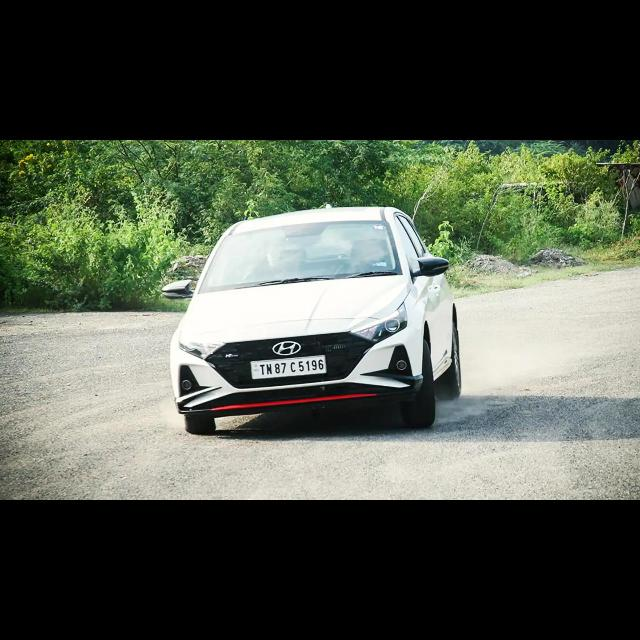number-plate: (251, 357, 325, 378)
vehicles: (161, 204, 459, 439)
